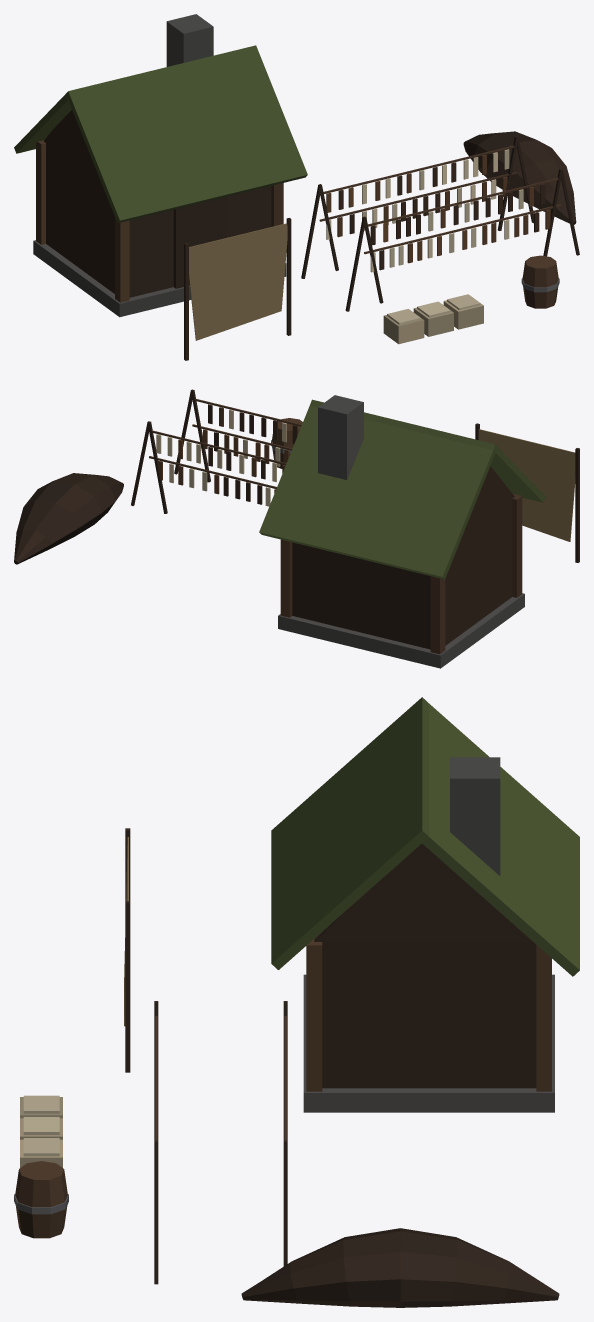
The model's file is walk_rime_fishery.glb.
3 views of the same model, one above another, from view 1: azimuth 30°, elevation 25°; view 2: azimuth 150°, elevation 25°; view 3: azimuth 270°, elevation 25° (orthographic). The views are drawn at different scales.
Parts seen in each view (by area): view 1: walk_rime_fishery, walk_rime_fishery_roof; view 2: walk_rime_fishery, walk_rime_fishery_roof; view 3: walk_rime_fishery, walk_rime_fishery_roof.
Part boxes in pixels (box(x1,y1,x2,y2)): walk_rime_fishery: box(33, 110, 579, 360); walk_rime_fishery_roof: box(14, 14, 307, 223); walk_rime_fishery: box(14, 389, 579, 668); walk_rime_fishery_roof: box(259, 395, 545, 579); walk_rime_fishery: box(14, 828, 559, 1307); walk_rime_fishery_roof: box(271, 697, 579, 976).
Size of what is drawn, in the model's own units: 11.15 by 4.9 by 7.88.
2 materials, 2 textured.
